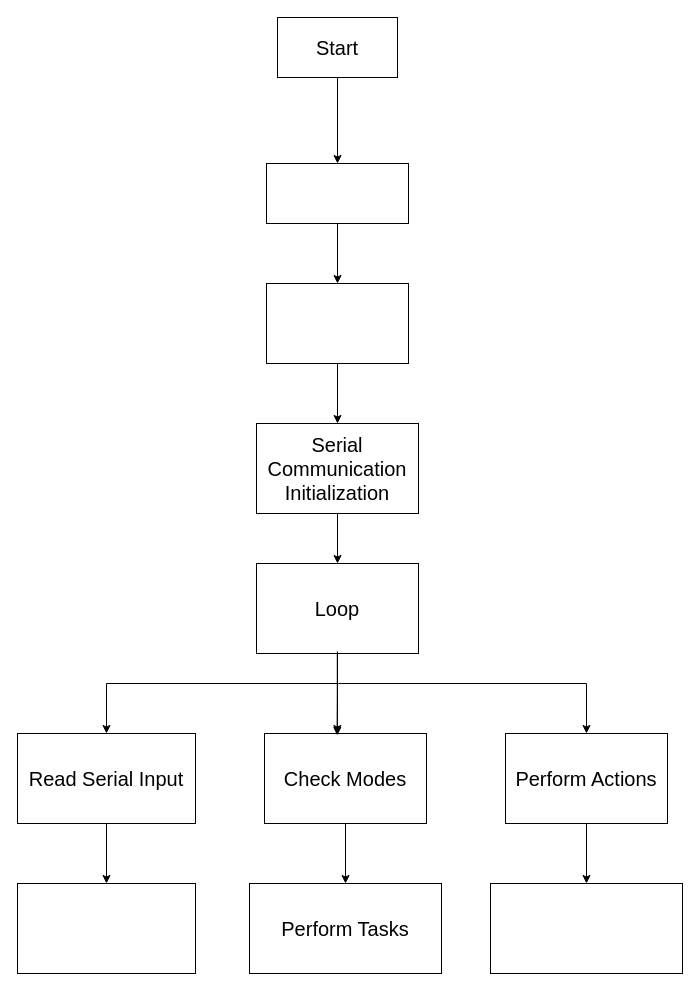
This 700x991 diagram has some shape labels left out. The box of each missing label's shape, as (x1, y1, x2, y2) in pixels:
ADC Configurations: (266, 282, 408, 364)
Control Outputs: (490, 882, 682, 974)
I/O Setup: (266, 162, 408, 224)
Set Modes: (16, 882, 196, 974)
